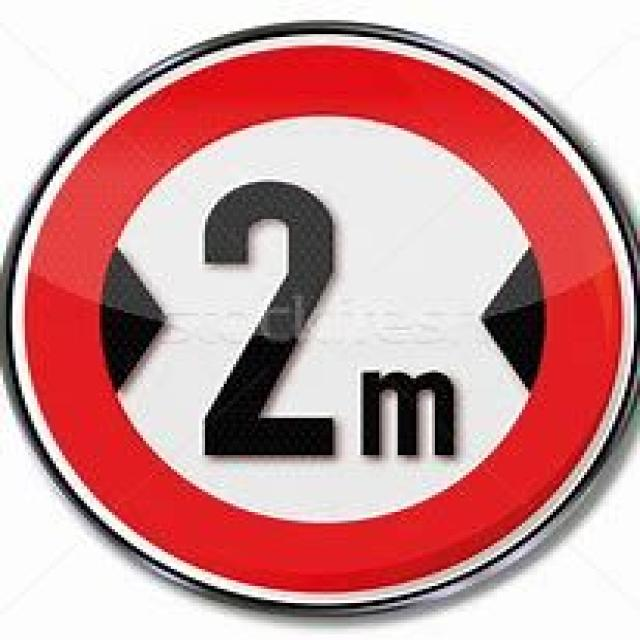do_not_u_turn: (19, 42, 621, 592)
